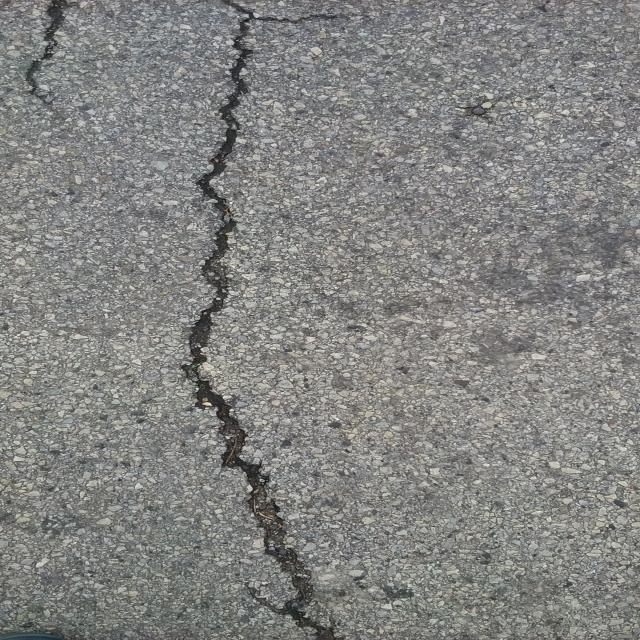Longitudial: (152, 0, 426, 640)
